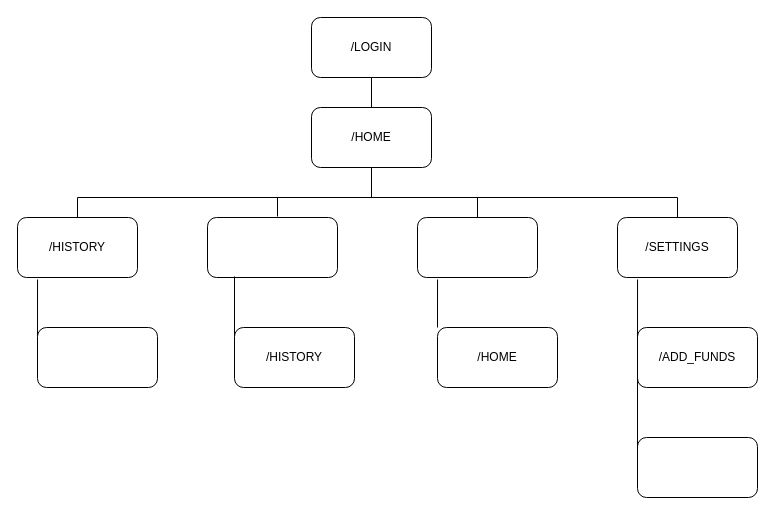
The diagram is 775 pixels wide and 515 high, and some of its shapes have lost their labels. Here are the shapes that lost their labels. From the top down, the centre of each, then its label:
(x=272, y=247): /NEW_TRANSACTION
(x=477, y=247): /NEW_TAG
(x=97, y=357): /SEARCH
(x=697, y=467): /SET_BUDGET
